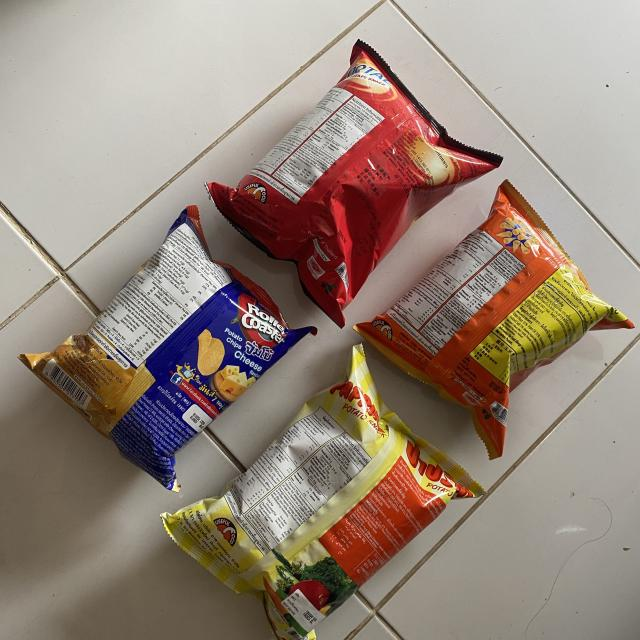plastik: (161, 345, 484, 640), (206, 41, 502, 328), (19, 206, 315, 490), (355, 181, 634, 459)
